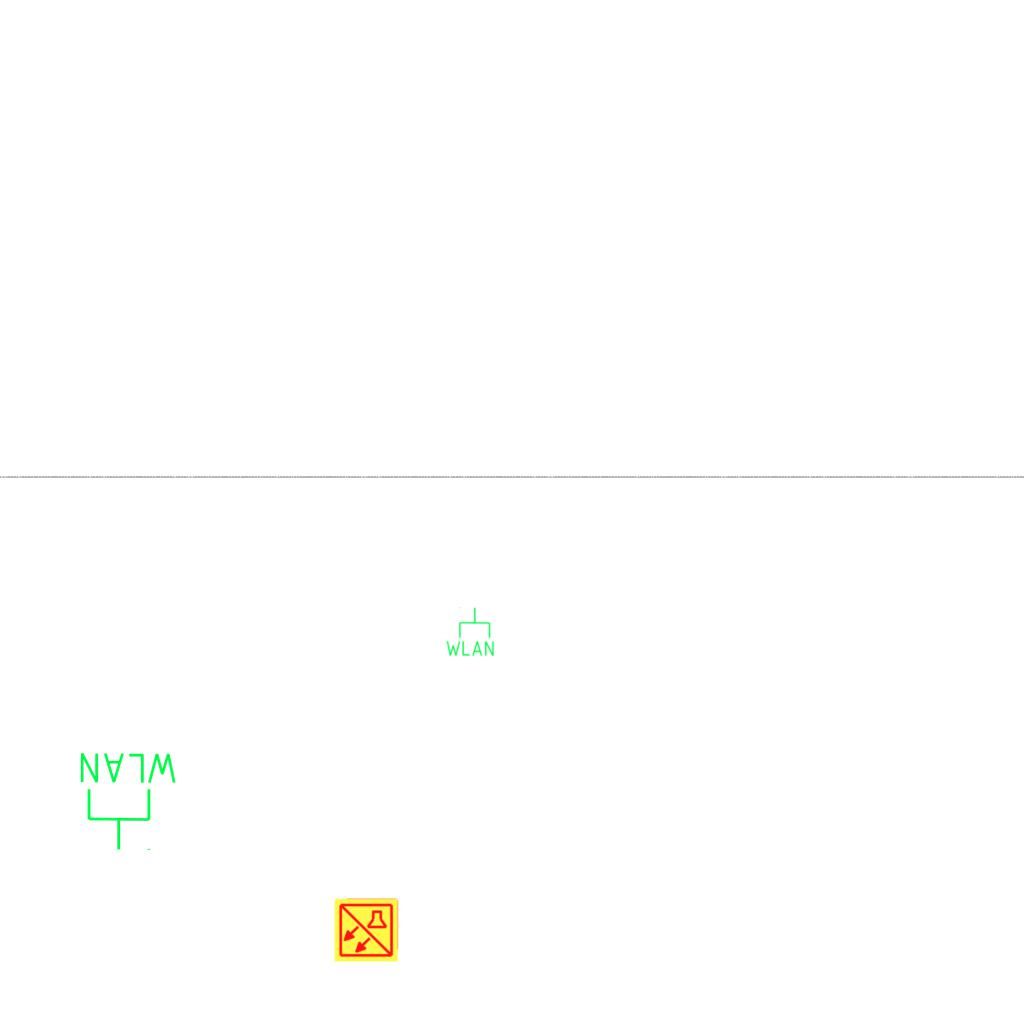OKW_Multisensormelder_(Kombination_optischer_Rauch-Kahlenmonoxid_Waerme-Melder): (333, 897, 399, 963)
WLAN: (76, 749, 181, 853), (444, 606, 496, 658)
